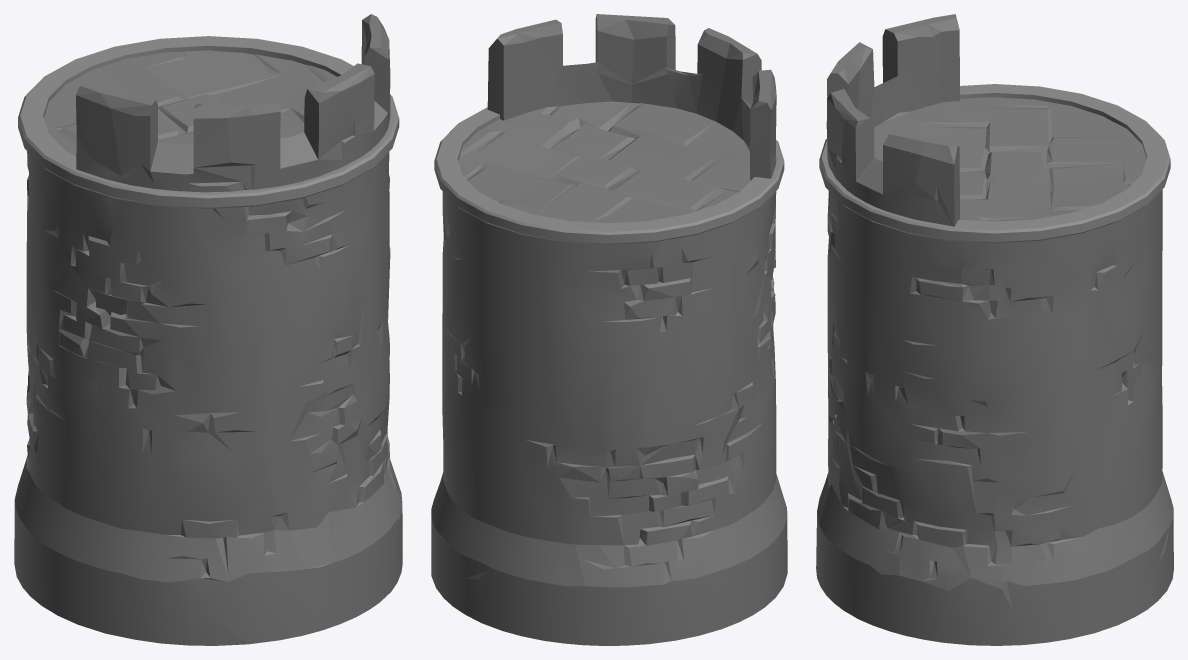
The model's file is castle_round_tower_a.FBX.
The picture shows the model from 3 angles, left to right: view 1: azimuth 30°, elevation 25°; view 2: azimuth 150°, elevation 25°; view 3: azimuth 270°, elevation 25°; orthographic projection. The views are drawn at different scales.
Parts seen in each view (by area): view 1: castle_round_tower_a; view 2: castle_round_tower_a; view 3: castle_round_tower_a.
Boxes of the visible parts, box(x1,y1,x2,y2) form: castle_round_tower_a: box(14, 14, 402, 645); castle_round_tower_a: box(431, 14, 787, 645); castle_round_tower_a: box(816, 14, 1173, 645).
Size of the model in its own units: 6.33 by 9.56 by 6.33.
